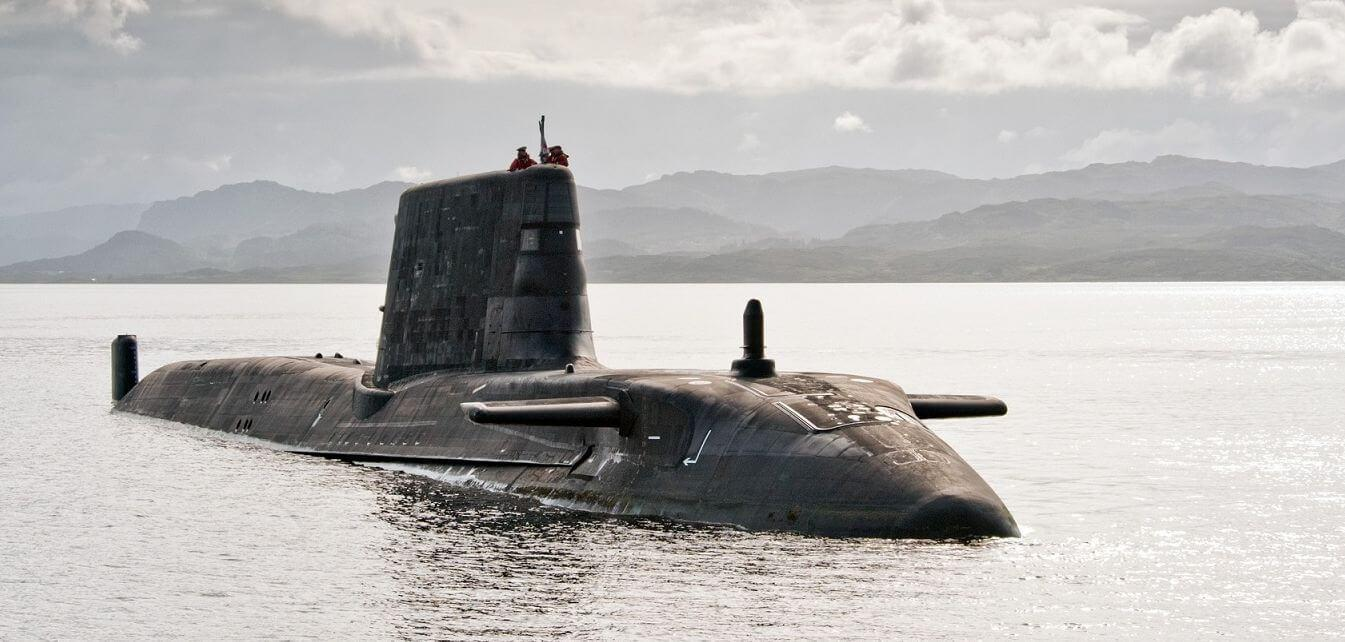Submarine: (23, 75, 1118, 625)
